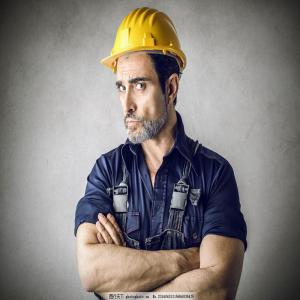yellow: (111, 6, 184, 146)
